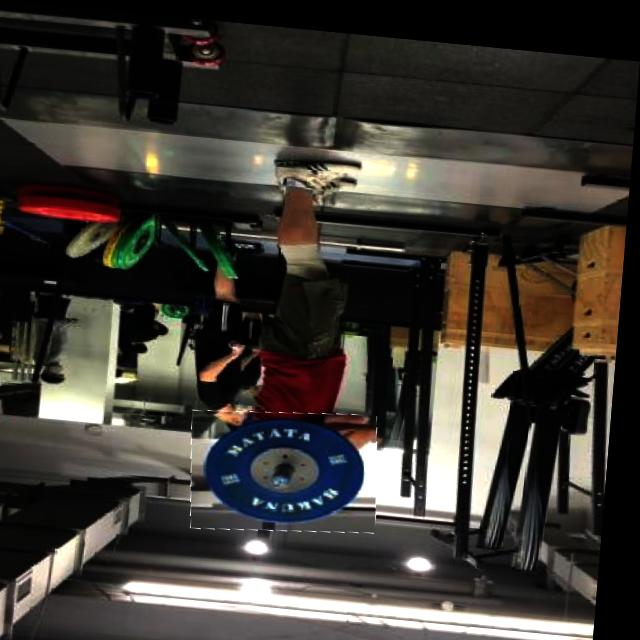barbell: (194, 398, 390, 535)
